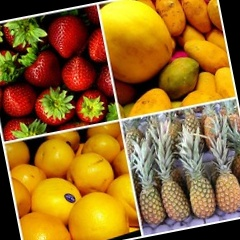Pineapple: (178, 127, 214, 218), (156, 130, 190, 220), (210, 134, 240, 211)
